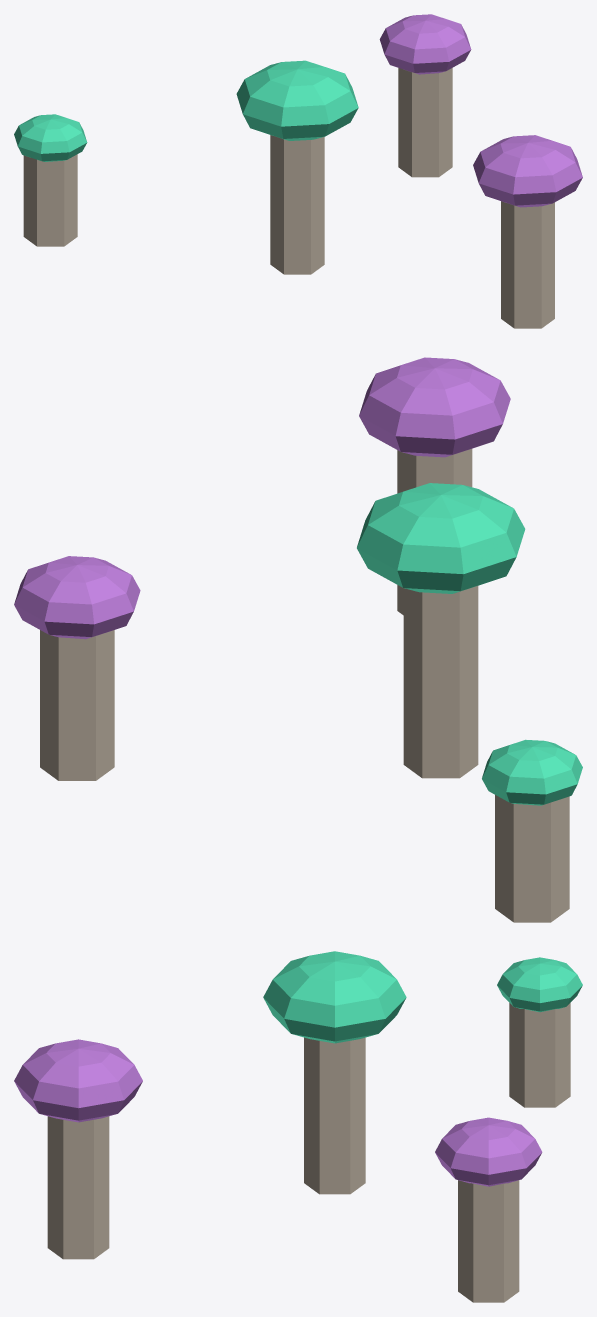
Rendered from mushroom_patch.dae.
The picture shows the model from 3 angles, top to bottom: view 1: azimuth 30°, elevation 25°; view 2: azimuth 150°, elevation 25°; view 3: azimuth 270°, elevation 25°; orthographic projection. The views are drawn at different scales.
Parts seen in each view (by area): view 1: Sphere, Cylinder, Cylinder.003, Sphere.003, Cylinder.001, Cylinder.002, Sphere.001, Sphere.002; view 2: Sphere, Cylinder, Sphere.003, Cylinder.001, Cylinder.002, Sphere.001, Sphere.002, Cylinder.003; view 3: Sphere, Cylinder, Cylinder.003, Sphere.003, Cylinder.001, Cylinder.002, Sphere.001, Sphere.002.
Part boxes in pixels (x1=…): Sphere: x1=236, y1=60, x2=358, y2=140; Cylinder: x1=270, y1=135, x2=324, y2=274; Cylinder.003: x1=501, y1=201, x2=554, y2=328; Sphere.003: x1=473, y1=135, x2=582, y2=207; Cylinder.001: x1=398, y1=68, x2=452, y2=177; Cylinder.002: x1=23, y1=154, x2=77, y2=246; Sphere.001: x1=379, y1=14, x2=471, y2=74; Sphere.002: x1=14, y1=114, x2=87, y2=161; Sphere: x1=357, y1=483, x2=525, y2=593; Cylinder: x1=403, y1=586, x2=478, y2=778; Sphere.003: x1=359, y1=357, x2=510, y2=457; Cylinder.001: x1=40, y1=630, x2=114, y2=780; Cylinder.002: x1=495, y1=795, x2=569, y2=922; Sphere.001: x1=14, y1=556, x2=140, y2=639; Sphere.002: x1=482, y1=739, x2=582, y2=805; Cylinder.003: x1=397, y1=449, x2=472, y2=615; Sphere: x1=263, y1=951, x2=406, y2=1043; Cylinder: x1=304, y1=1037, x2=365, y2=1194; Cylinder.003: x1=47, y1=1116, x2=109, y2=1259; Sphere.003: x1=14, y1=1039, x2=142, y2=1122; Cylinder.001: x1=458, y1=1180, x2=519, y2=1302; Cylinder.002: x1=509, y1=1003, x2=570, y2=1107; Sphere.001: x1=435, y1=1117, x2=542, y2=1186; Sphere.002: x1=497, y1=957, x2=582, y2=1012.
Size of the model in its own units: 54.45 by 55.5 by 23.85.
